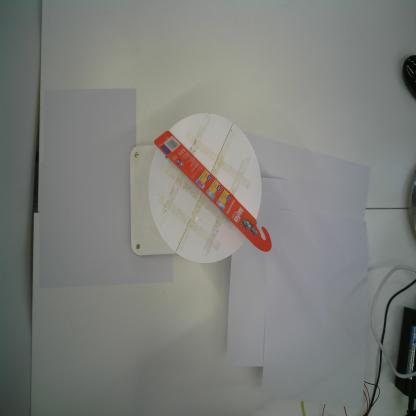Personal Hygiene: (154, 130, 272, 253)
